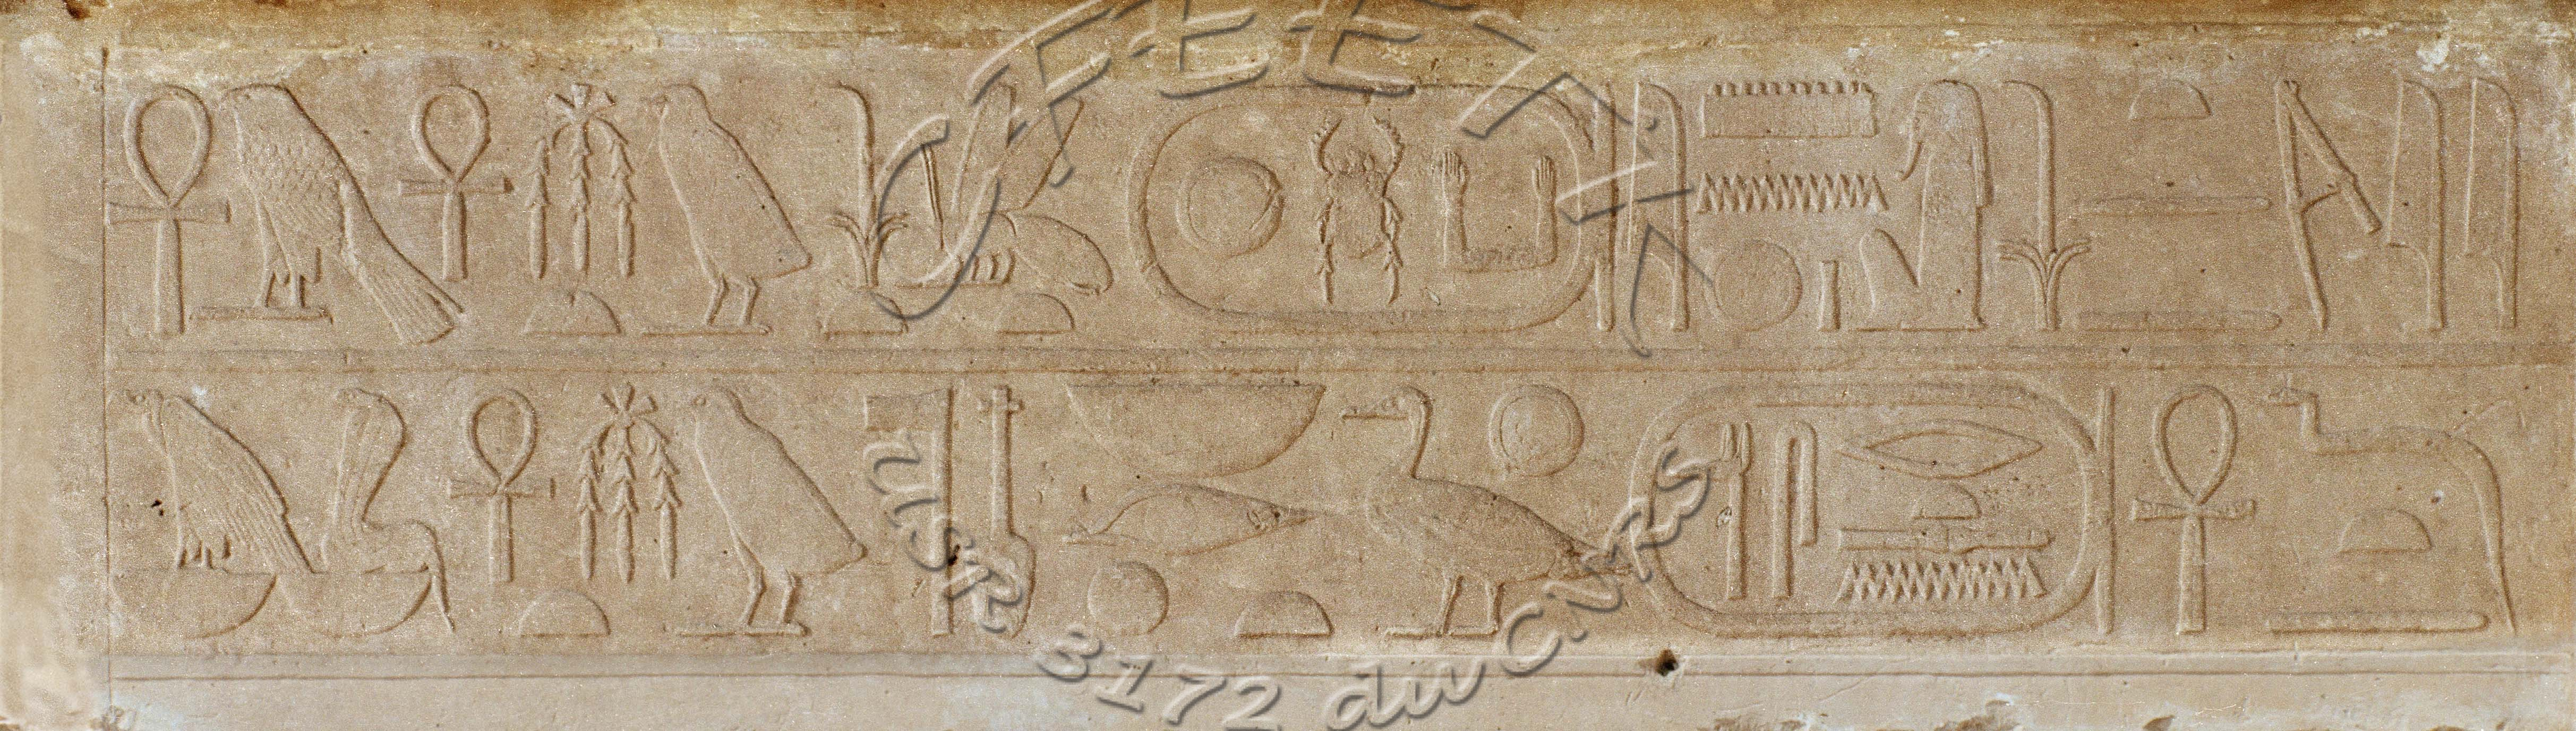D21: (1833, 404, 2057, 488)
D4: (1051, 476, 1339, 580)
F35: (948, 368, 1073, 651)
G43: (642, 375, 887, 651), (639, 80, 818, 345)
I10: (2241, 373, 2535, 651)
M17: (2366, 72, 2469, 345), (1615, 67, 1717, 337), (2448, 71, 2540, 337)
N35: (1681, 151, 1902, 235), (1830, 549, 2060, 606)
V30: (1056, 365, 1332, 483), (108, 559, 292, 651), (274, 554, 449, 651)
